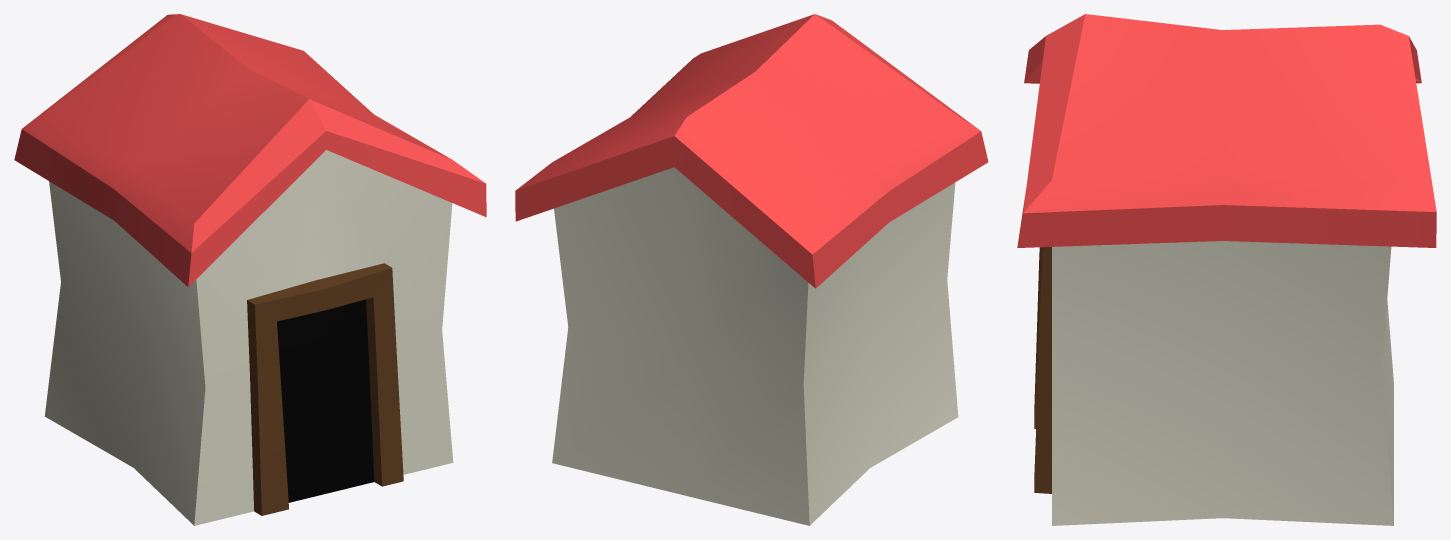
File: Building.FBX
The picture shows the model from 3 angles, left to right: view 1: azimuth 30°, elevation 25°; view 2: azimuth 150°, elevation 25°; view 3: azimuth 270°, elevation 25°; orthographic projection. The views are drawn at different scales.
Visible parts, largest first — view 1: Box001; view 2: Box001; view 3: Box001.
Boxes of the visible parts, x1,y1,x2,y2 form: Box001: (14,14,486,525); Box001: (515,14,988,525); Box001: (1017,14,1436,525).
Size of the model in its own units: 1.15 by 1.42 by 1.23.
1 material, 1 textured.
